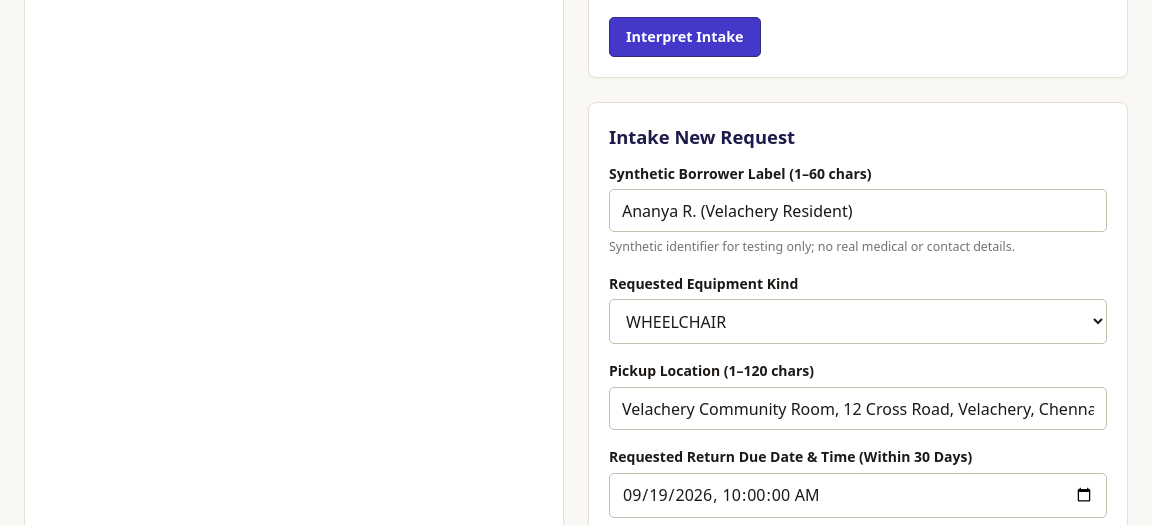
Borrowed Steps M1 — Mocked-Backend Interface Tests › Mocked-backend test: Creates structured request and verifies server confirmation and fresh idempotency key
The image size is (1152, 525).
(page scrolled)
Replace the text in the field labelled "Synthetic Borrower Label (1–60 chars)" with "K. Balaji (Velachery East)": (858, 211) [609, 189, 1107, 232]
(page scrolled)
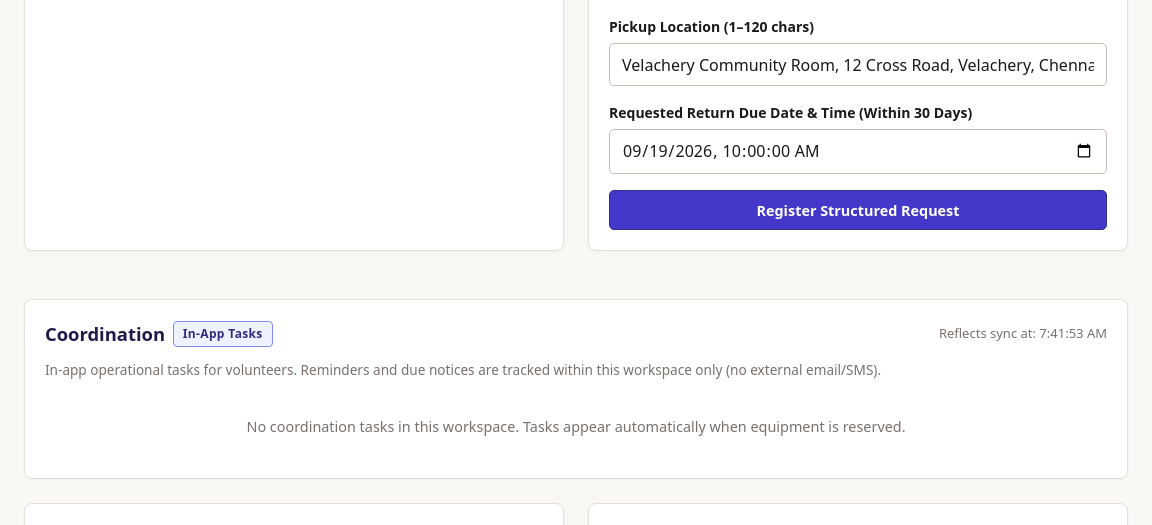
Click the button "Register Structured Request": (858, 210) [609, 190, 1107, 230]
(page scrolled)
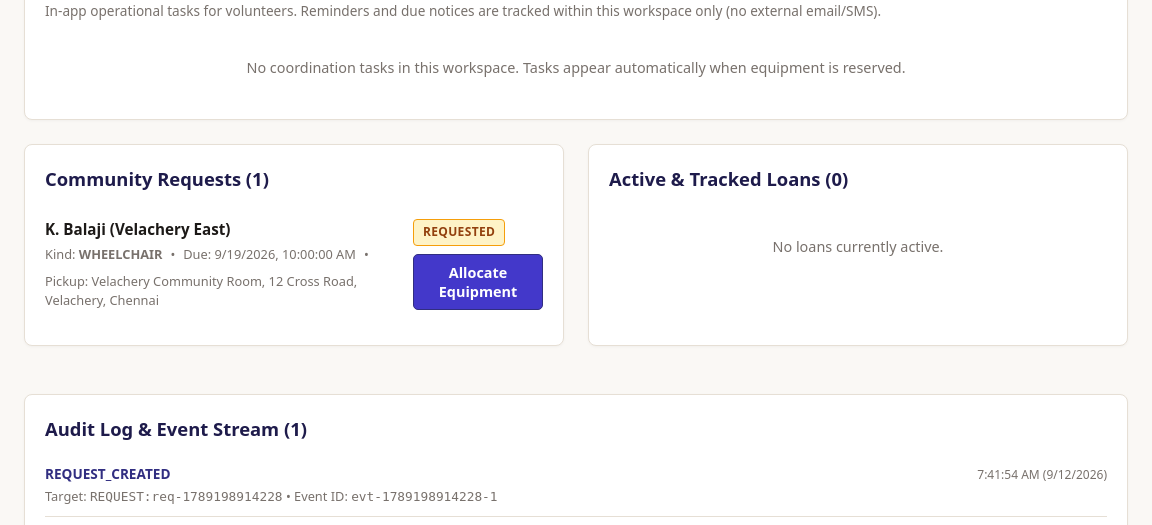
Now the text "K. Balaji (Velachery East)" is shown, box [45, 219, 230, 239]
